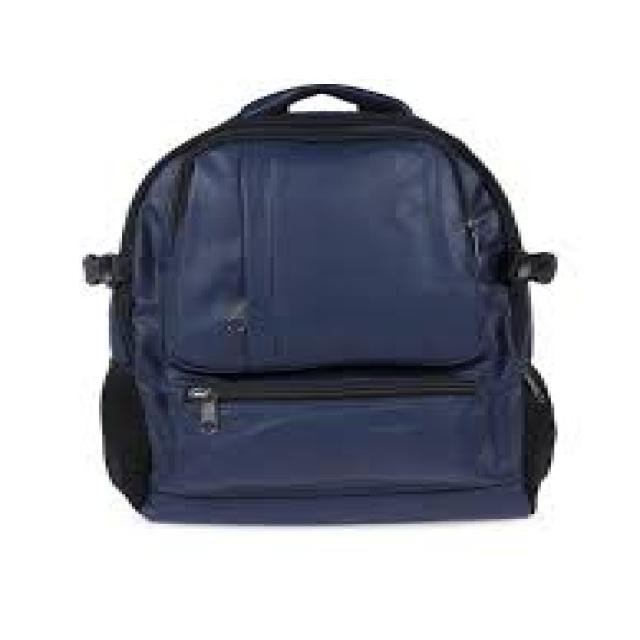backpack: (80, 82, 559, 525)
